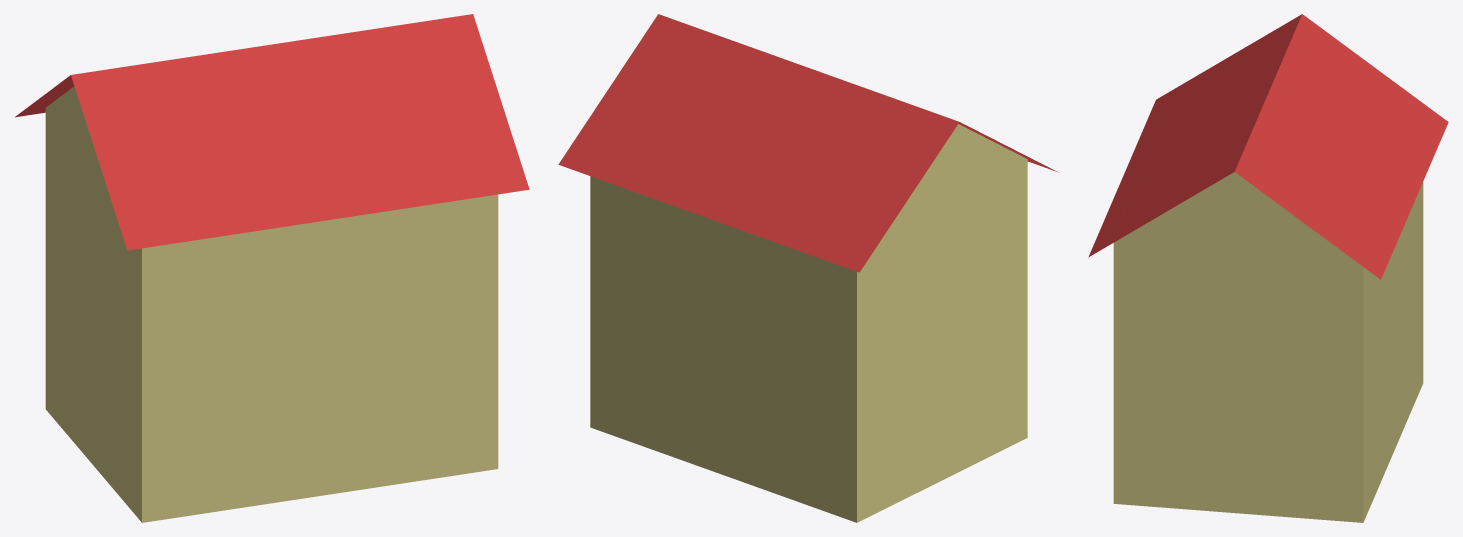
3 renders of one model, left to right at view 1: azimuth 30°, elevation 25°; view 2: azimuth 150°, elevation 25°; view 3: azimuth 270°, elevation 25°, orthographic. The views are drawn at different scales.
Parts seen in each view (by area): view 1: group_5, group_3, group_4; view 2: group_5, group_3, group_4; view 3: group_5, group_3, group_4.
Part boxes in pixels (left/top/right/bottom): group_5: left=45, top=86, right=498, bottom=522; group_3: left=72, top=17, right=522, bottom=250; group_4: left=15, top=14, right=529, bottom=250; group_5: left=590, top=124, right=1027, bottom=522; group_3: left=559, top=14, right=1058, bottom=272; group_4: left=558, top=15, right=657, bottom=164; group_5: left=1113, top=172, right=1423, bottom=522; group_3: left=1089, top=14, right=1448, bottom=279; group_4: left=1088, top=14, right=1380, bottom=279.
Size of the model in its own units: 14.68 by 12.4 by 13.31.
